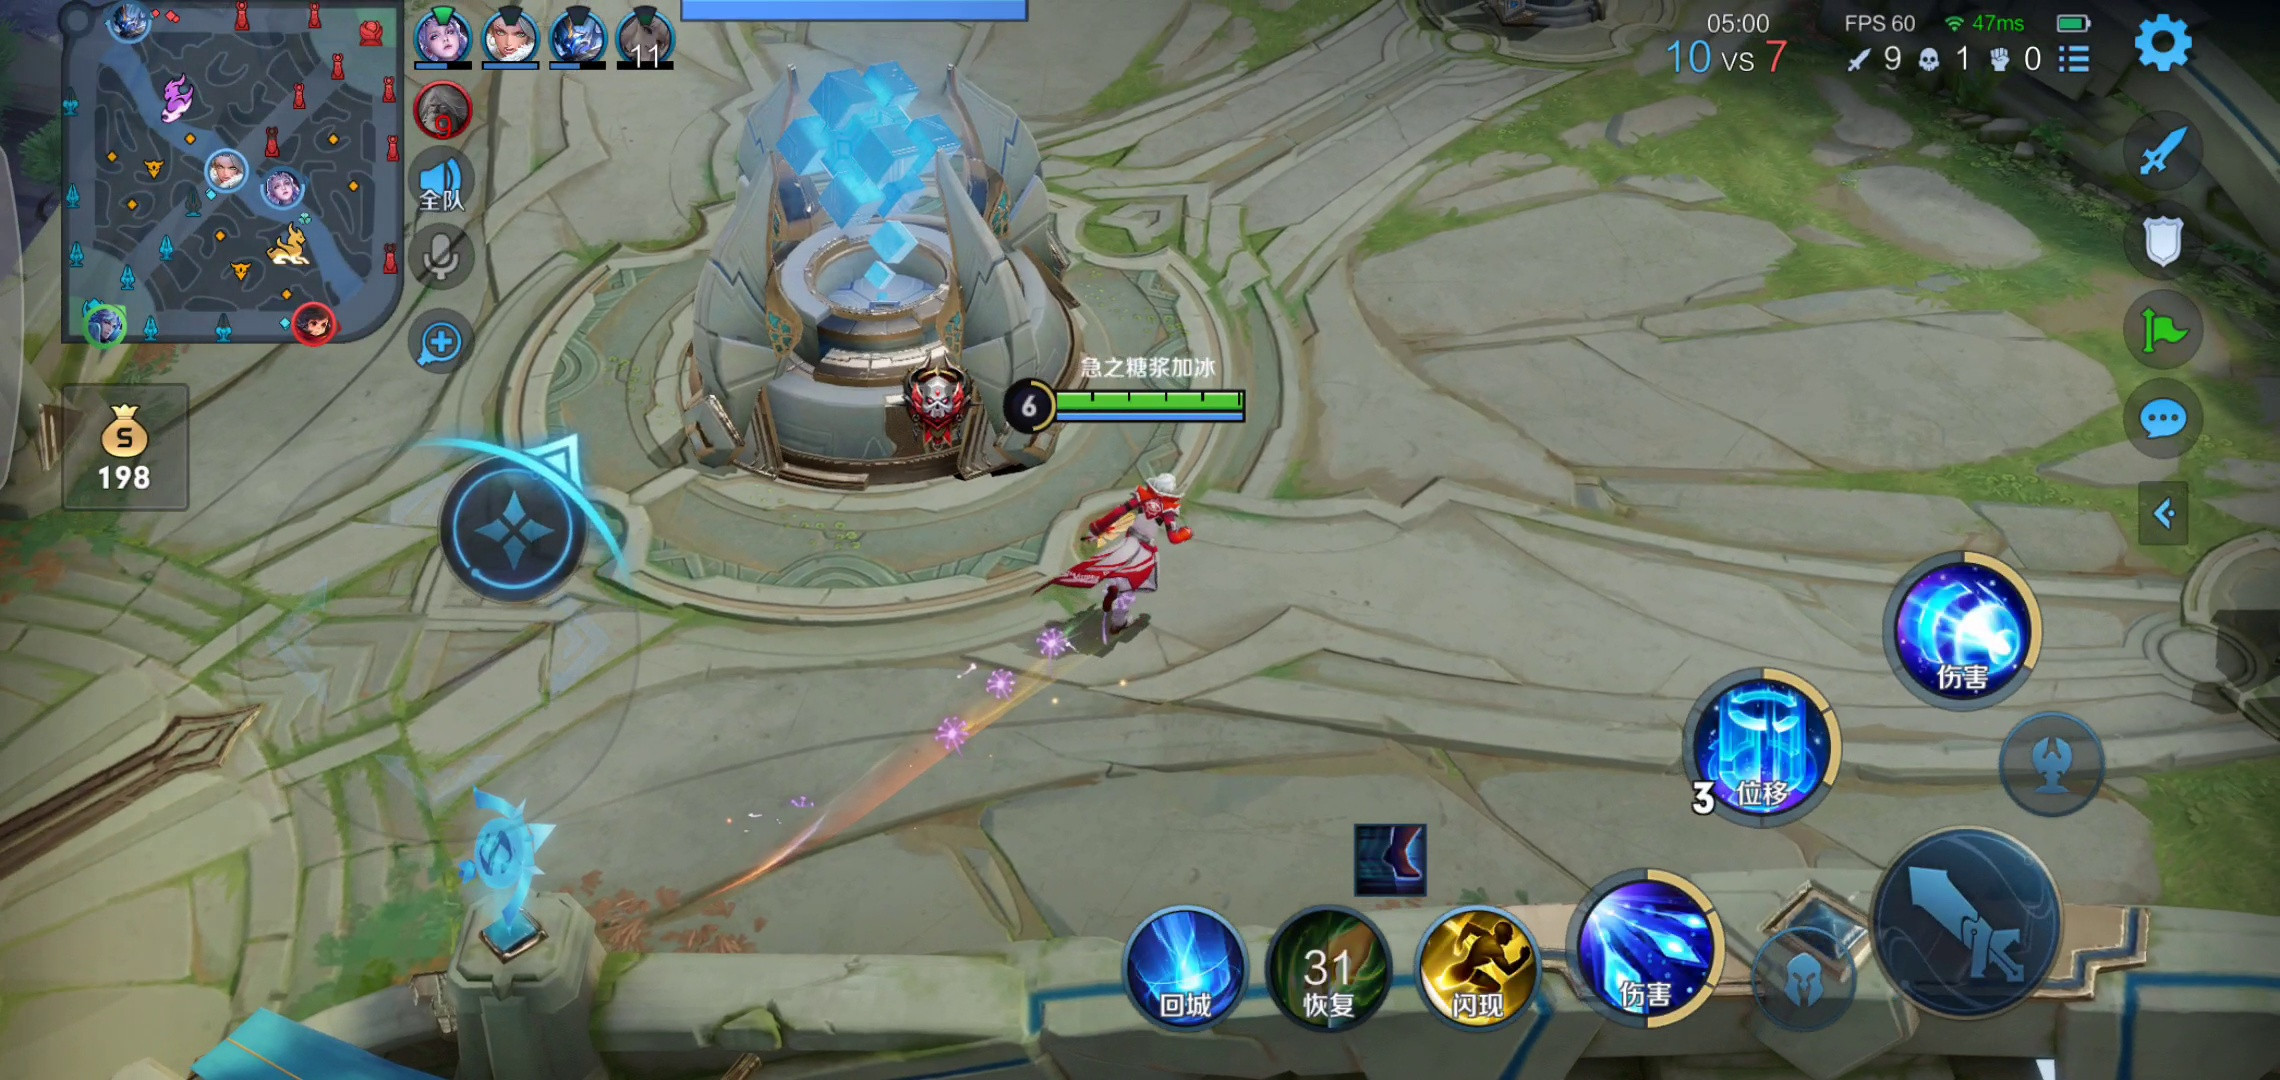crystal: (672, 76, 1091, 475)
hero: (1045, 472, 1207, 640)
